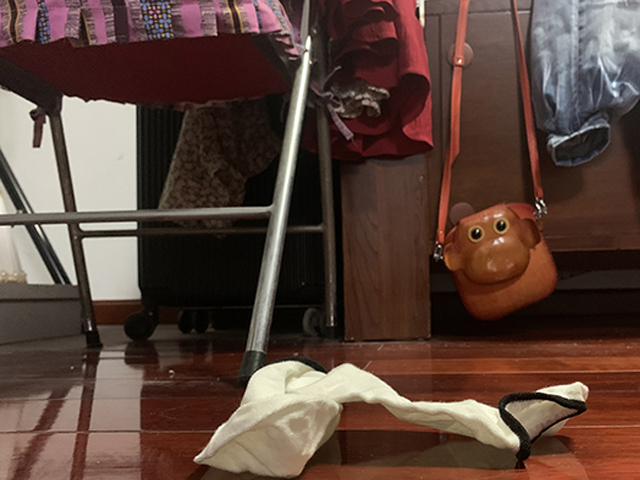socks: (188, 355, 590, 480)
